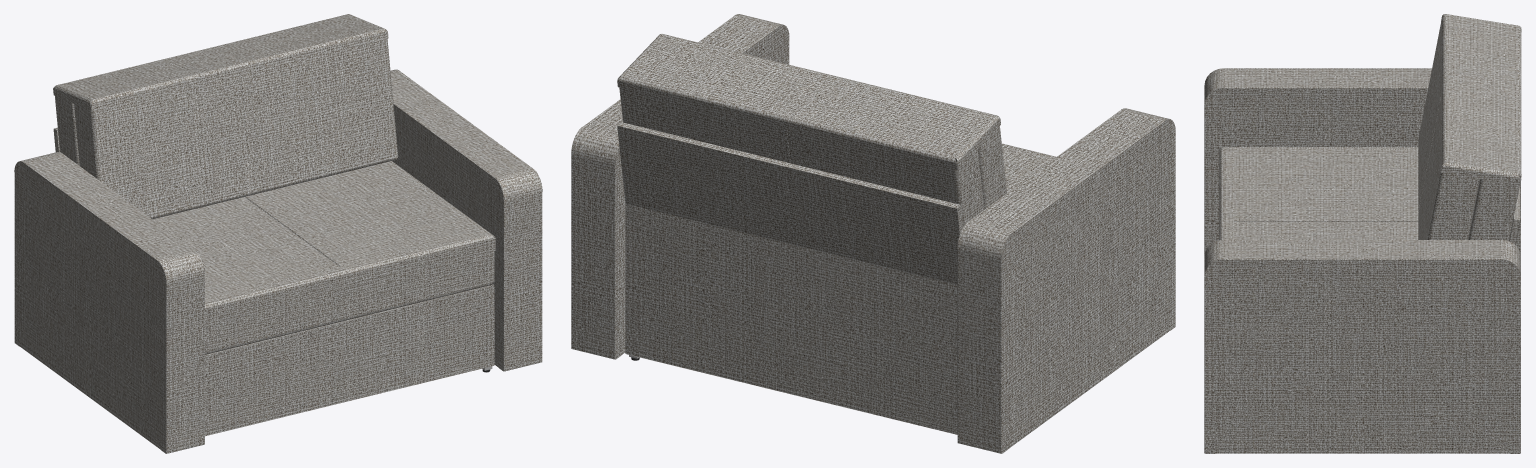
3 renders of one model, left to right at view 1: azimuth 30°, elevation 25°; view 2: azimuth 150°, elevation 25°; view 3: azimuth 270°, elevation 25°, orthographic. The views are drawn at different scales.
Visible parts, largest first — view 1: 2, 4, 69, 79; view 2: 56, 4, 2; view 3: 4, 2.
Part boxes in pixels (bbox=[...]): 2: bbox=[53, 14, 495, 354]; 4: bbox=[14, 69, 542, 453]; 69: bbox=[205, 285, 494, 435]; 79: bbox=[205, 284, 494, 436]; 56: bbox=[617, 122, 959, 434]; 4: bbox=[571, 14, 1175, 453]; 2: bbox=[617, 34, 1056, 226]; 4: bbox=[1204, 68, 1520, 453]; 2: bbox=[1219, 14, 1521, 240].
Size of the model in its own units: 1.26 by 0.8563 by 0.8859.
3 materials, 1 textured.
